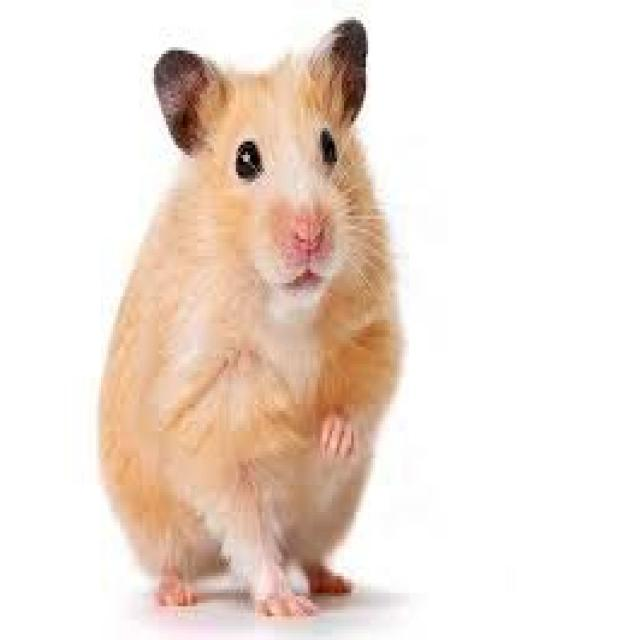hamster: (101, 20, 404, 613)
